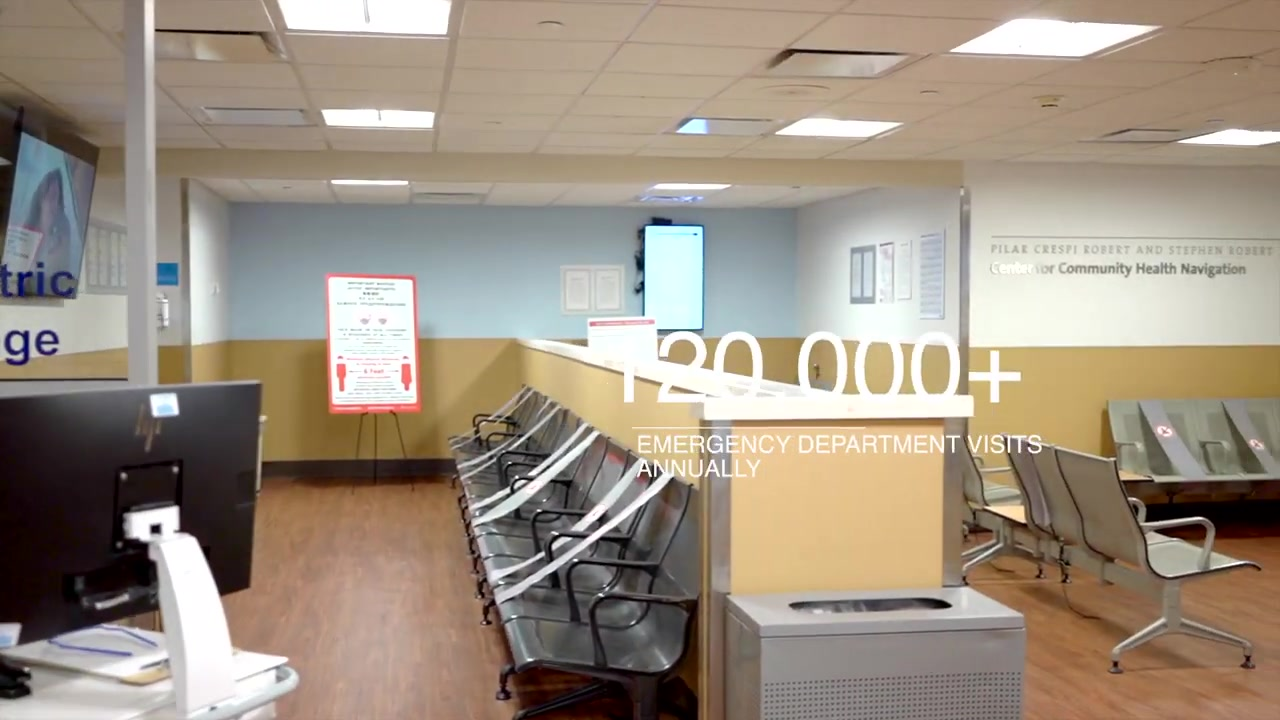TV: (1, 128, 98, 297), (642, 223, 705, 327)
chair: (959, 420, 1255, 674), (506, 486, 712, 720), (493, 467, 691, 696), (474, 441, 634, 689), (484, 450, 654, 628), (473, 428, 611, 610), (472, 418, 607, 581), (1098, 398, 1280, 516), (458, 407, 570, 563), (455, 393, 549, 529), (447, 385, 536, 487)
computer: (1, 381, 266, 652)
countertop: (516, 330, 975, 426)
waste_bin: (721, 587, 1024, 720)
